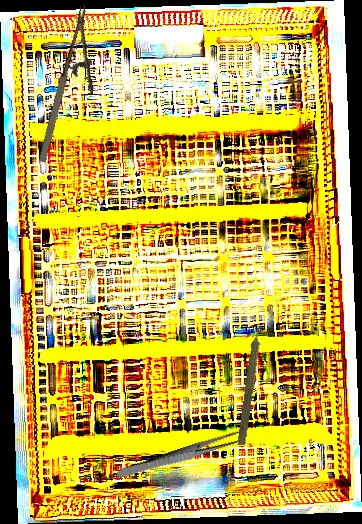Dressing Forceps: (115, 429, 244, 483)
Handpiece: (235, 320, 268, 447)
Needle Holder: (34, 4, 117, 170)
